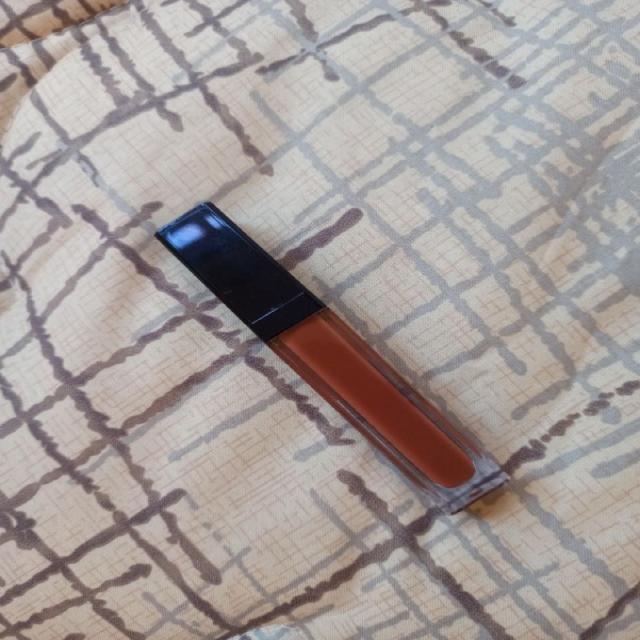lipstick: (152, 200, 510, 515)
